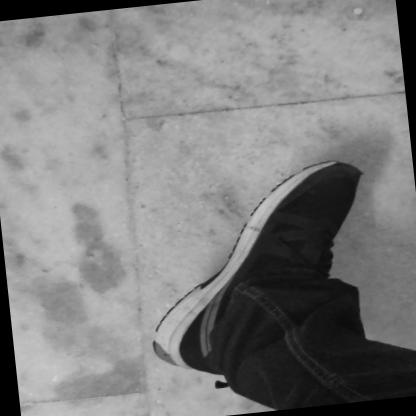ankle: (230, 315, 237, 322)
heel: (162, 353, 168, 359)
pinky: (351, 190, 355, 194)
right_foot: (136, 158, 382, 383)
toe: (314, 169, 323, 176)
